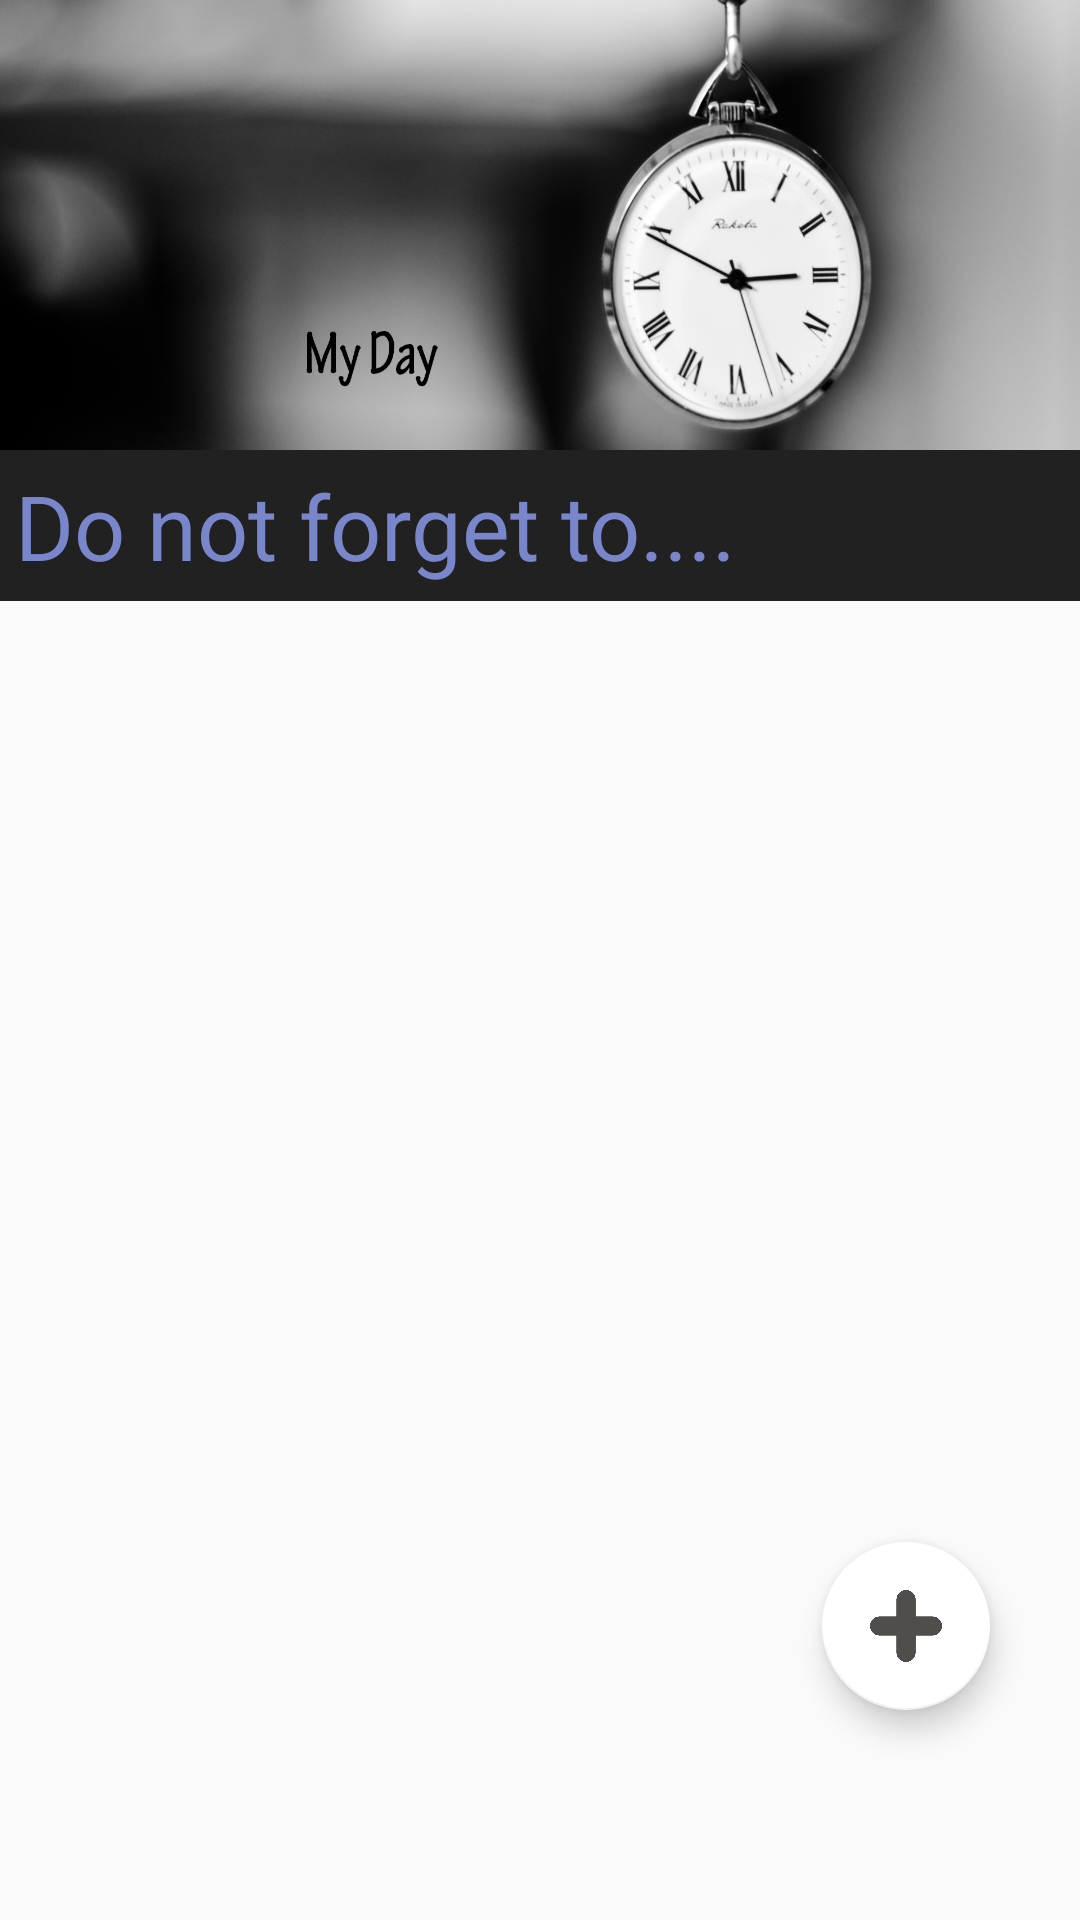

Icons on this 1080×1920 Android screen, each with the point to tap as [x,y]:
add: [884,1626]
